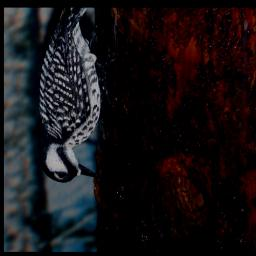Woodpecker: (34, 8, 117, 189)
